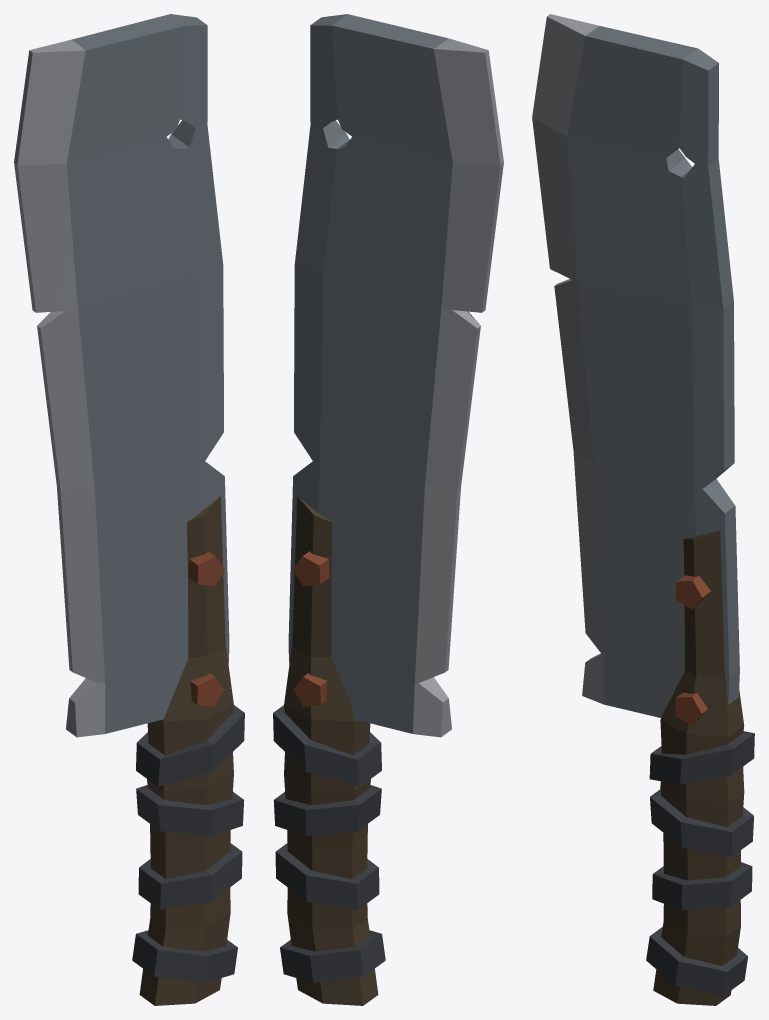
Rendered from SmallButcherCleaver.glb.
3 renders of one model, left to right at view 1: azimuth 30°, elevation 25°; view 2: azimuth 150°, elevation 25°; view 3: azimuth 330°, elevation 25°, orthographic. The views are drawn at different scales.
Parts seen in each view (by area): view 1: SmallButcherCleaver; view 2: SmallButcherCleaver; view 3: SmallButcherCleaver.
Boxes of the visible parts, box(x1,y1,x2,y2) form: SmallButcherCleaver: box(14, 14, 244, 1005); SmallButcherCleaver: box(273, 14, 503, 1005); SmallButcherCleaver: box(532, 14, 754, 1005).
Size of the model in its own units: 4762 by 20380 by 1689.
Materials: 1 (1 with a texture image).
